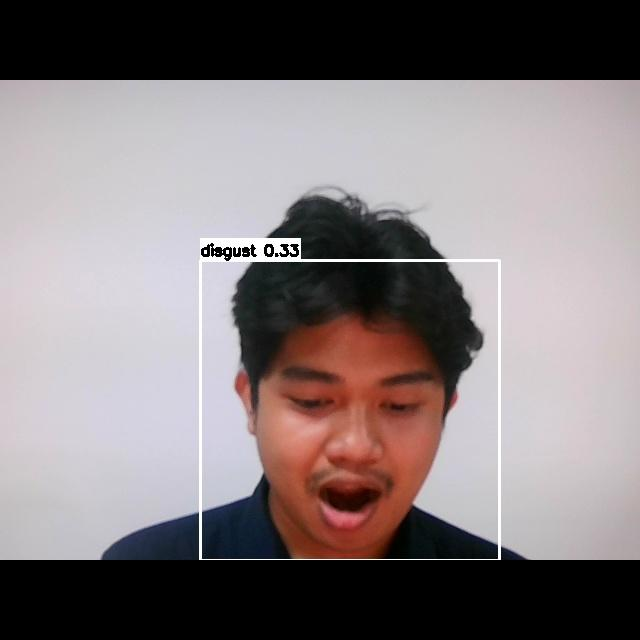Surprised: (247, 329, 454, 554)
